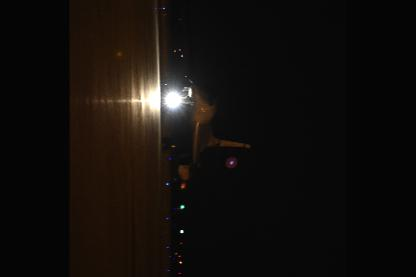AV8B: (162, 0, 251, 275)
